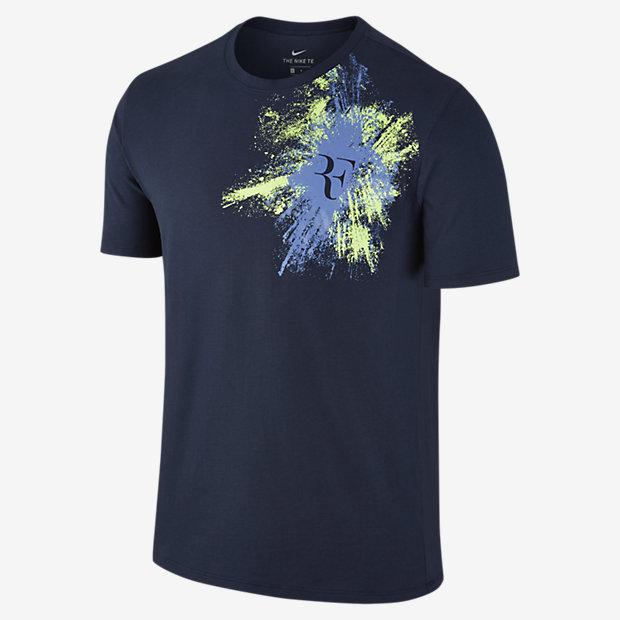teeshirt: (98, 9, 546, 620)
